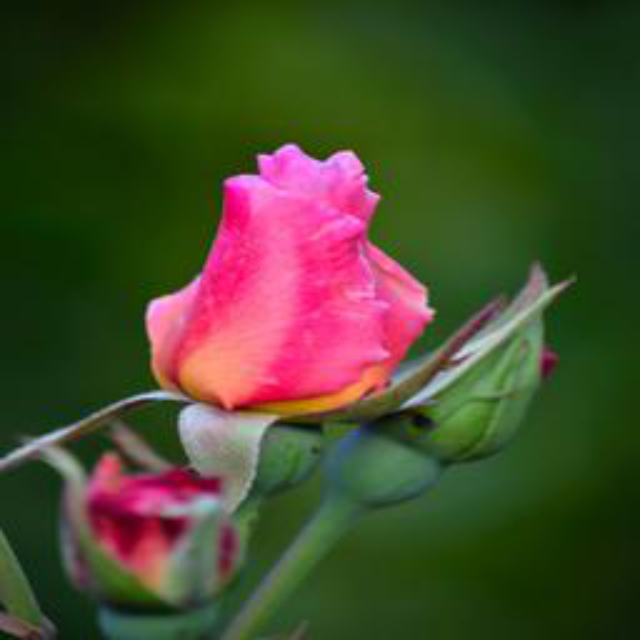rose: (144, 136, 435, 446), (55, 444, 255, 623)
